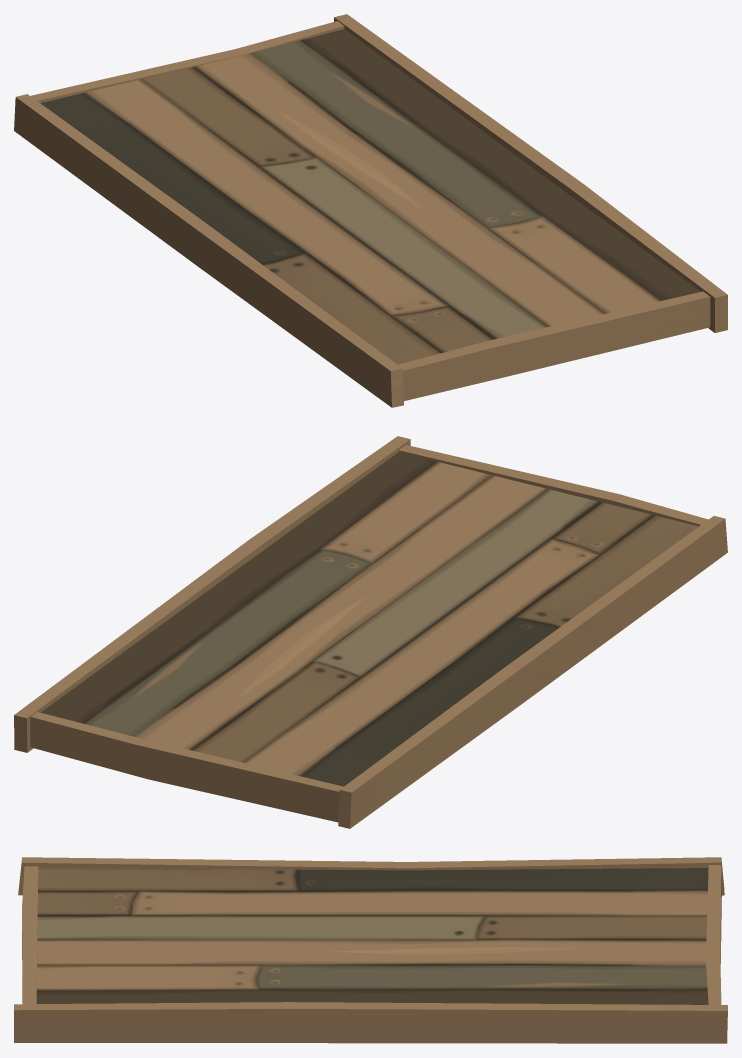
File: SM_Bld_Dock_03.fbx
The picture shows the model from 3 angles, top to bottom: view 1: azimuth 30°, elevation 25°; view 2: azimuth 150°, elevation 25°; view 3: azimuth 270°, elevation 25°; orthographic projection. The views are drawn at different scales.
Visible parts, largest first — view 1: SM_Bld_Dock_03; view 2: SM_Bld_Dock_03; view 3: SM_Bld_Dock_03.
Part boxes in pixels (bbox=[...]): SM_Bld_Dock_03: bbox=[14, 14, 727, 407]; SM_Bld_Dock_03: bbox=[14, 436, 727, 828]; SM_Bld_Dock_03: bbox=[14, 857, 727, 1043].
Bounding box in the file's own units: 263 × 30.5 × 520.
